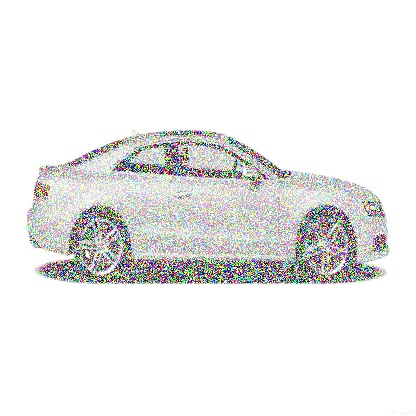Vehicle: (27, 127, 390, 282)
